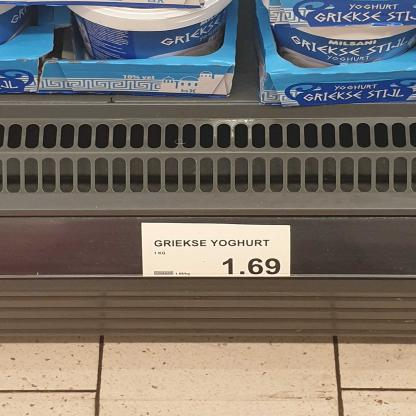prtg: (141, 223, 292, 278)
